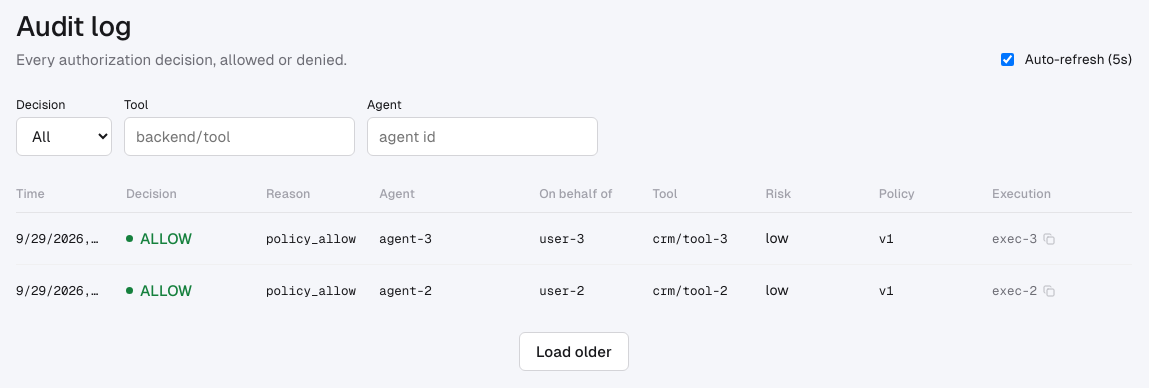
Test case: AuditPage › loads older events using nextBeforeSequence
The width and height of the screenshot is (1149, 388).
Click the button "Load older" at (574, 352), box top-left (519, 332), bottom-right (629, 371)
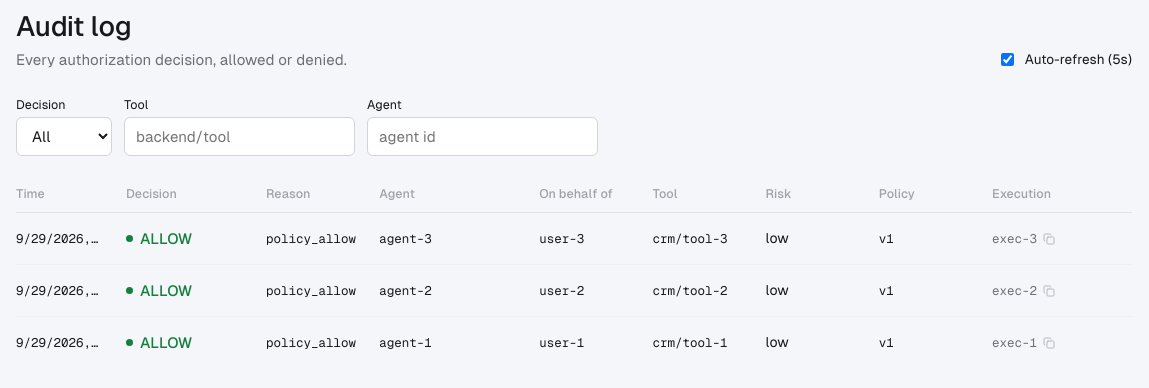
Expected: the text "crm/tool-1" is shown, top-left (652, 316), bottom-right (766, 368)
Expected: the button "Load older" is gone
